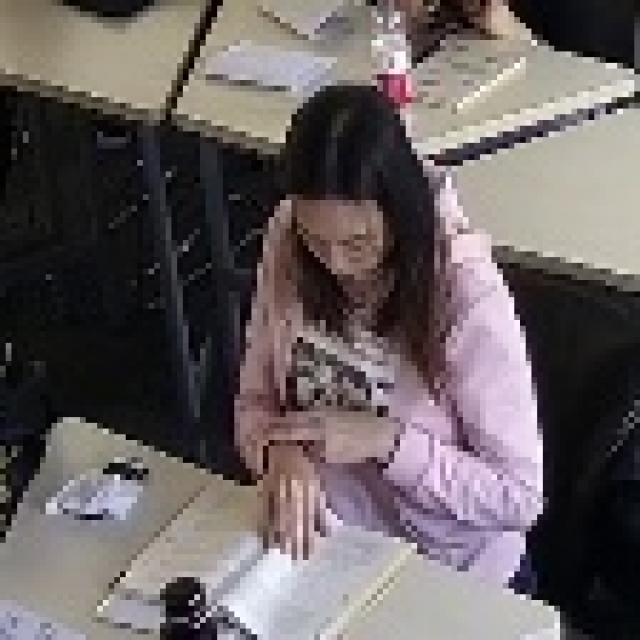write: (229, 82, 549, 598)
